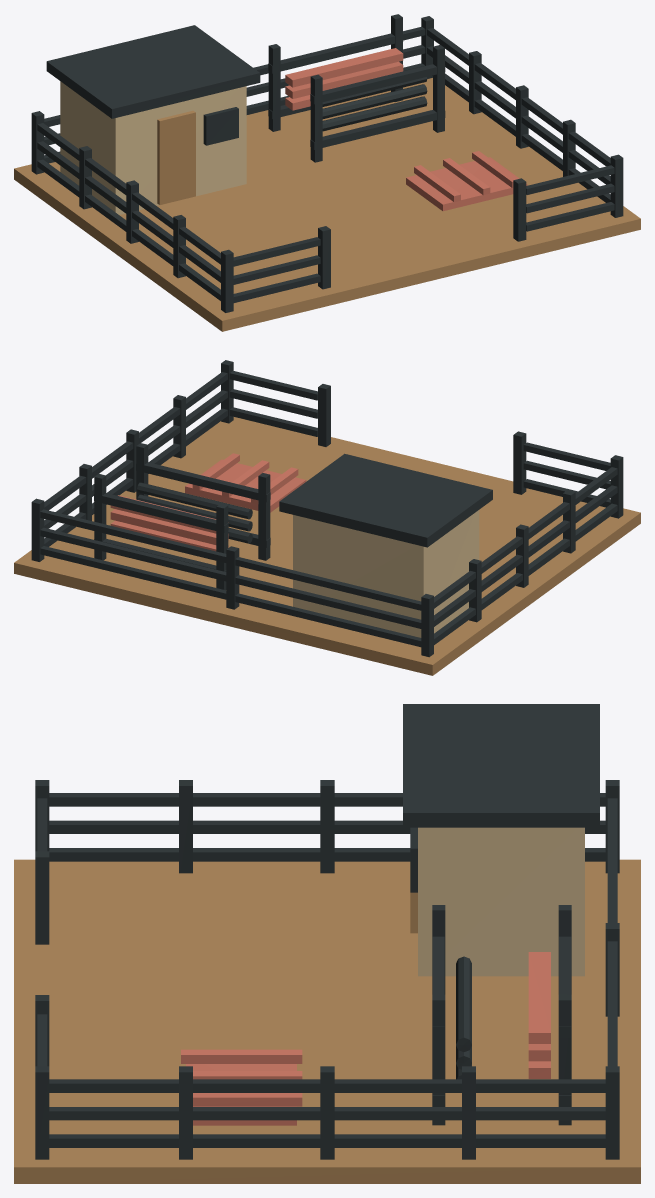
File: Construction-Yard.glb
3 renders of one model, top to bottom at view 1: azimuth 30°, elevation 25°; view 2: azimuth 150°, elevation 25°; view 3: azimuth 270°, elevation 25°, orthographic. The views are drawn at different scales.
Parts seen in each view (by area): view 1: construction-yard-static-construction-yard-pale-packed-base, construction-yard-static-construction-yard-charcoal-metal, construction-yard-static-construction-yard-cream-office, construction-yard-static-construction-yard-secured-timber, construction-yard-static-construction-yard-muted-teal-door; view 2: construction-yard-static-construction-yard-charcoal-metal, construction-yard-static-construction-yard-pale-packed-base, construction-yard-static-construction-yard-cream-office, construction-yard-static-construction-yard-secured-timber; view 3: construction-yard-static-construction-yard-pale-packed-base, construction-yard-static-construction-yard-charcoal-metal, construction-yard-static-construction-yard-cream-office, construction-yard-static-construction-yard-secured-timber.
Boxes of the visible parts, box(x1,y1,x2,y2) form: construction-yard-static-construction-yard-pale-packed-base: box(14, 78, 640, 331); construction-yard-static-construction-yard-charcoal-metal: box(31, 14, 623, 312); construction-yard-static-construction-yard-cream-office: box(60, 81, 246, 214); construction-yard-static-construction-yard-secured-timber: box(285, 48, 527, 211); construction-yard-static-construction-yard-muted-teal-door: box(157, 110, 195, 204); construction-yard-static-construction-yard-charcoal-metal: box(31, 360, 623, 657); construction-yard-static-construction-yard-pale-packed-base: box(14, 417, 640, 675); construction-yard-static-construction-yard-cream-office: box(293, 510, 479, 637); construction-yard-static-construction-yard-secured-timber: box(110, 453, 306, 551); construction-yard-static-construction-yard-pale-packed-base: box(14, 859, 640, 1183); construction-yard-static-construction-yard-charcoal-metal: box(35, 704, 619, 1159); construction-yard-static-construction-yard-cream-office: box(418, 827, 584, 976); construction-yard-static-construction-yard-secured-timber: box(181, 952, 550, 1125).
Bounding box in the file's own units: 7.2 × 2.03 × 6.2.
